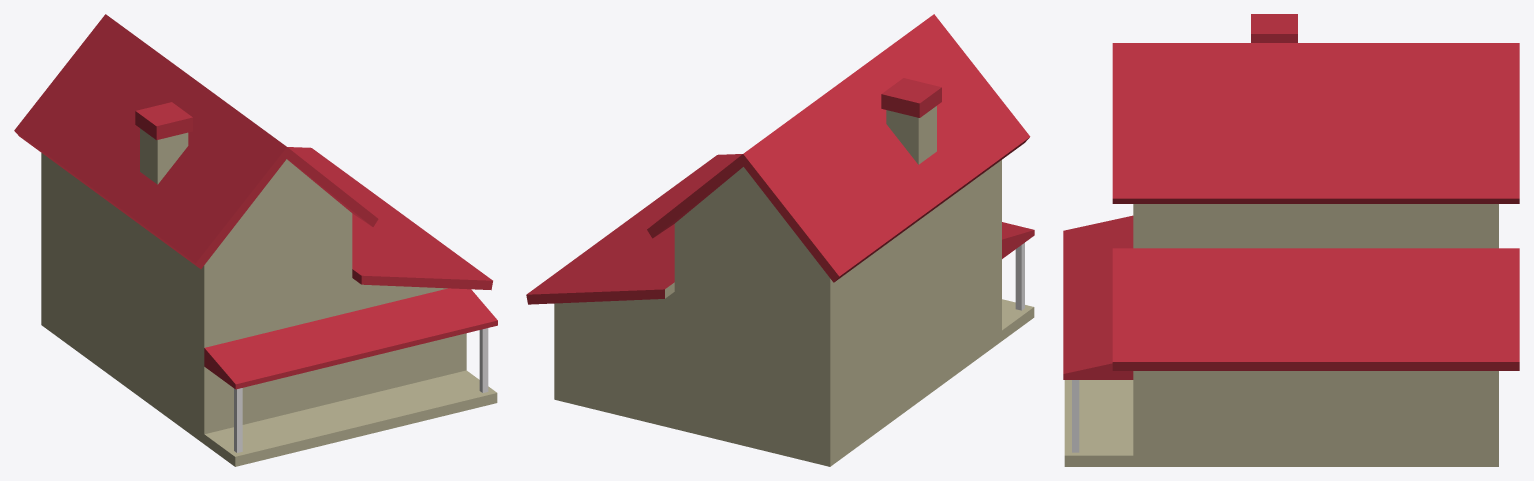
Rendered from HouseTest.fbx.
3 views of the same model, side by side, from view 1: azimuth 30°, elevation 25°; view 2: azimuth 150°, elevation 25°; view 3: azimuth 270°, elevation 25° (orthographic). The views are drawn at different scales.
Parts seen in each view (by area): view 1: HouseTest; view 2: HouseTest; view 3: HouseTest.
Boxes of the visible parts, bbox=[...] form: HouseTest: bbox=[14, 14, 497, 466]; HouseTest: bbox=[526, 14, 1034, 466]; HouseTest: bbox=[1063, 14, 1519, 466].
Size of the model in its own units: 194 by 178 by 230.
Materials: 1 (1 with a texture image).
